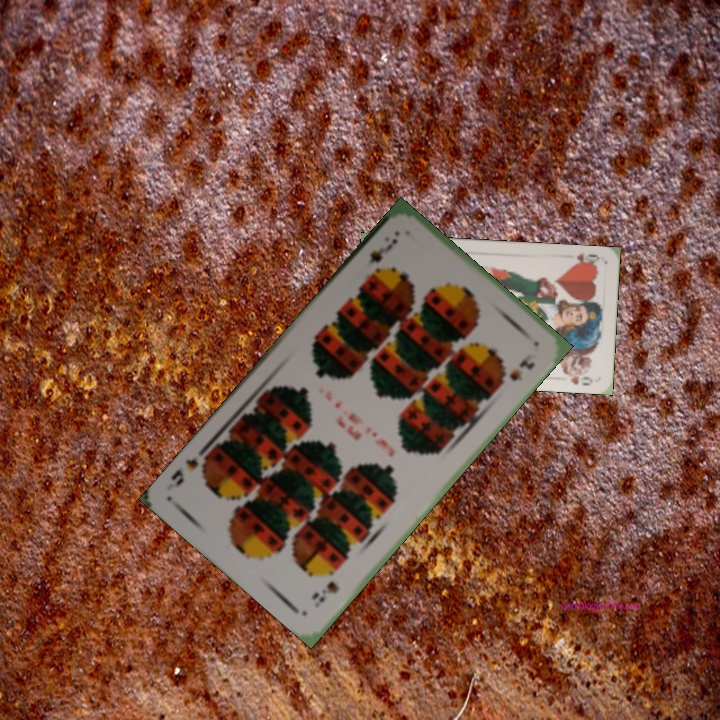HO: (568, 249, 602, 268)
S9: (365, 234, 400, 266), (308, 577, 342, 606)
